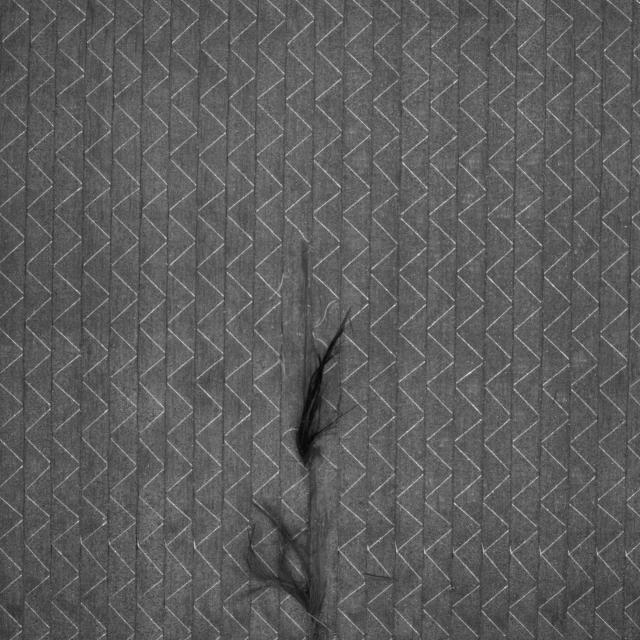carbon-fibre-defect: (281, 243, 349, 640)
